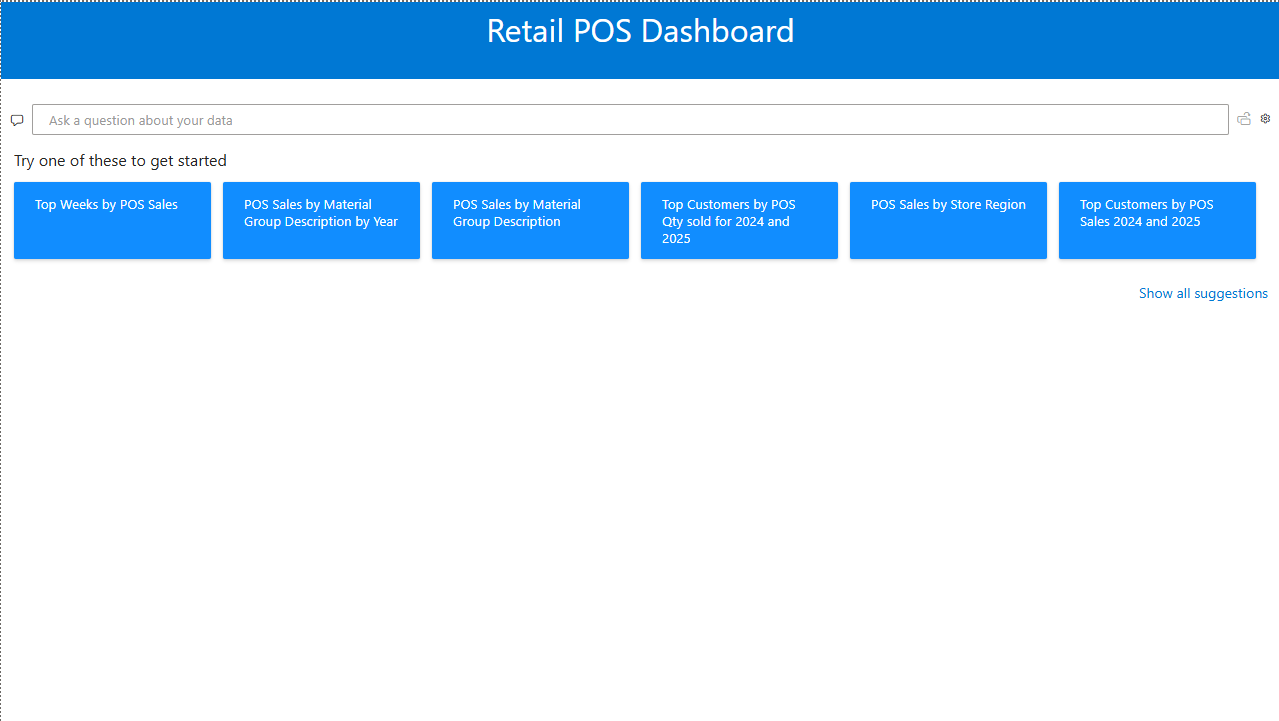

This screenshot's page, from the dashboard's own definition file:
{"tool":"powerbi","page":{"name":"Q&A","canvas":[1280,720],"ordinal":2},"visuals":[{"type":"qnaVisual","box":[0,76.8,1279.8,643.4],"z":0},{"type":"textbox","box":[0,0,1279.3,77.2],"z":1000}]}

Visuals, with their boxes in screenshot pixels (x1, y1, x2, y2), scaled from the page's 1280x720 canvas onto the 1279x721 screenshot:
qnaVisual: 0, 77, 1278, 720
textbox: 0, 0, 1278, 77
